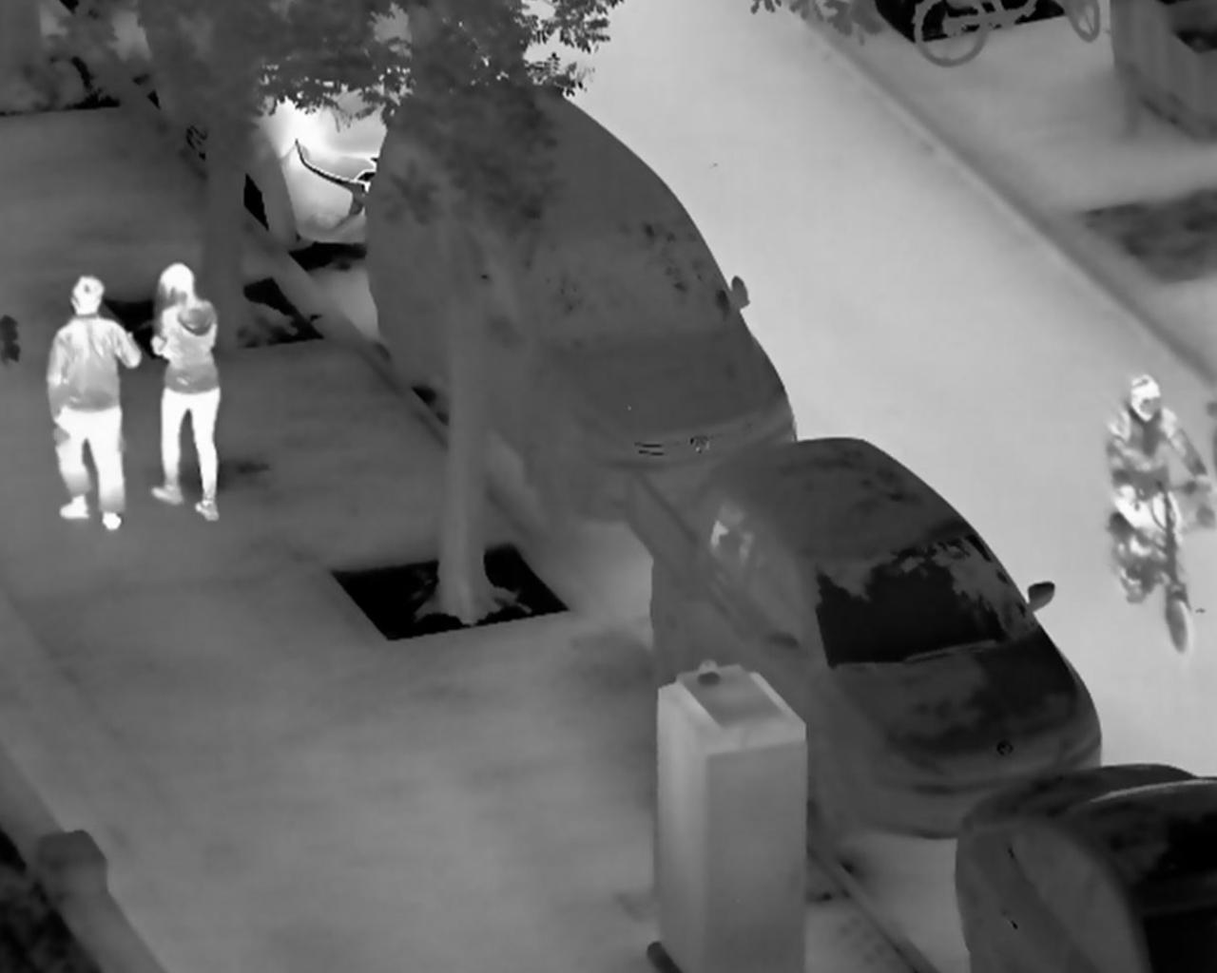person: (46, 274, 144, 532), (1107, 372, 1212, 607), (143, 260, 222, 523)
